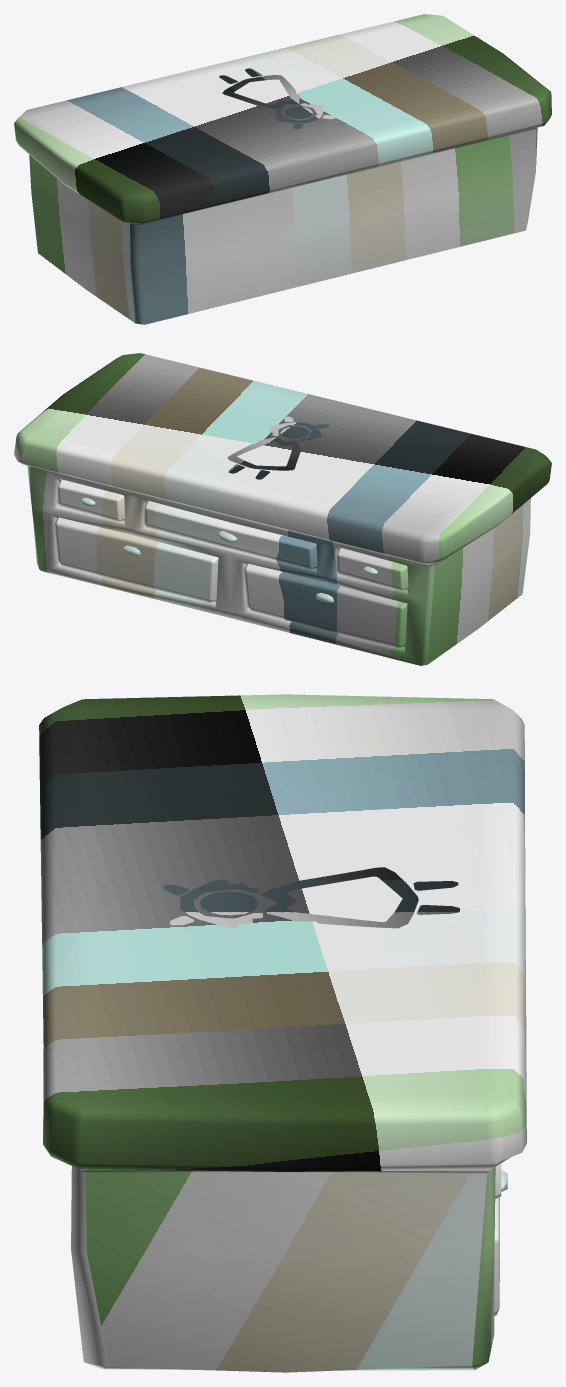
File: P_StoneDresserLong.glb
The picture shows the model from 3 angles, top to bottom: view 1: azimuth 30°, elevation 25°; view 2: azimuth 150°, elevation 25°; view 3: azimuth 270°, elevation 25°; orthographic projection. The views are drawn at different scales.
Parts seen in each view (by area): view 1: P_StoneDresserLong; view 2: P_StoneDresserLong; view 3: P_StoneDresserLong.
Boxes of the visible parts, x1,y1,x2,y2 form: P_StoneDresserLong: (14, 14, 551, 324); P_StoneDresserLong: (14, 353, 551, 665); P_StoneDresserLong: (39, 694, 526, 1372).
Size of the model in its own units: 2.04 by 0.6243 by 0.9806.
1 material, 1 textured.
